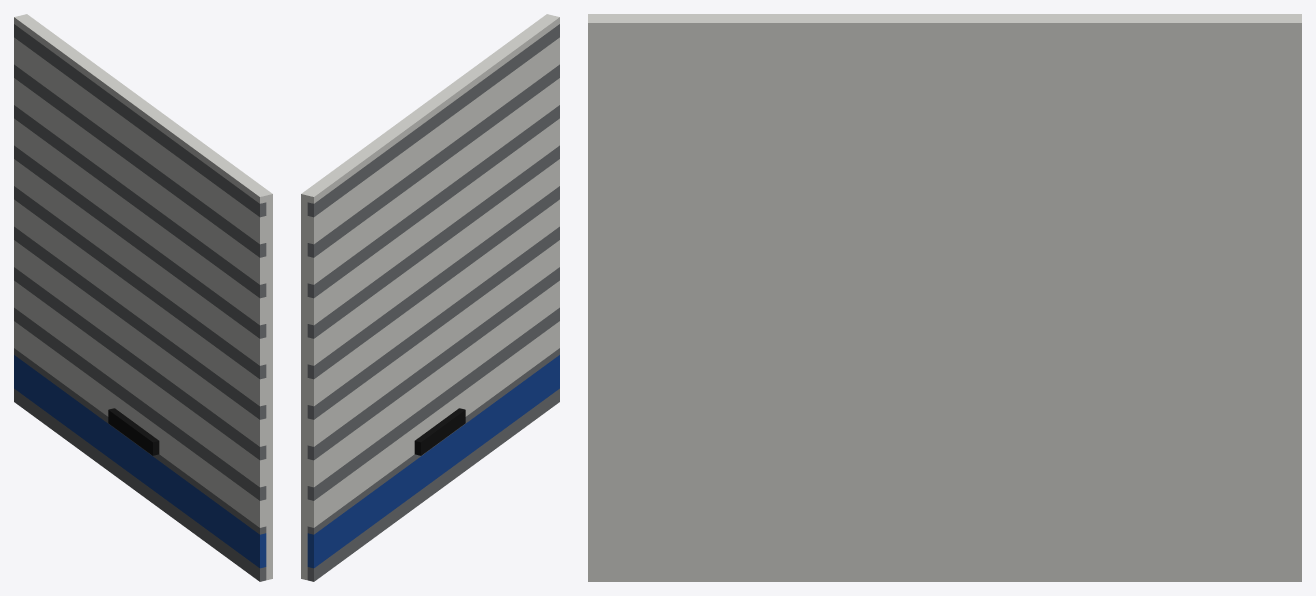
File: cube_van_rear_door.glb
3 renders of one model, left to right at view 1: azimuth 30°, elevation 25°; view 2: azimuth 150°, elevation 25°; view 3: azimuth 270°, elevation 25°, orthographic. The views are drawn at different scales.
Parts seen in each view (by area): view 1: body:compound; view 2: body:compound; view 3: body:compound.
Part boxes in pixels (x1,y1,x2,y2): body:compound: (14, 14, 272, 581); body:compound: (301, 14, 559, 581); body:compound: (588, 14, 1301, 581).
Bounding box in the file's own units: 0.0938 × 1.78 × 2.06.
